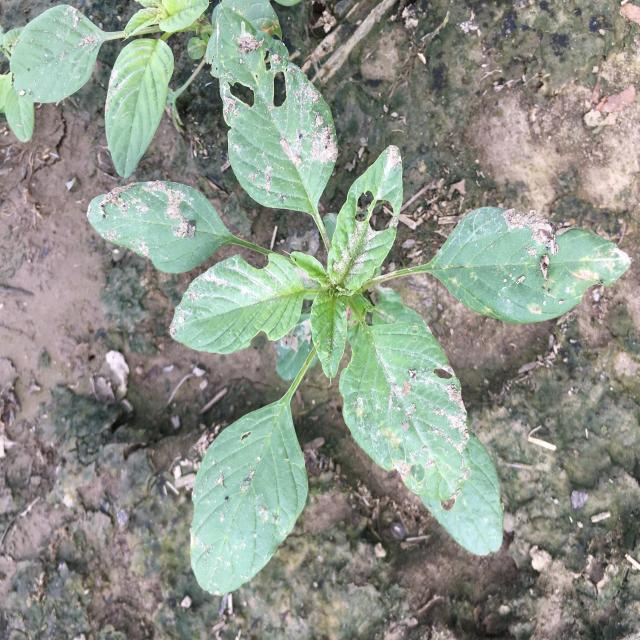PalmerAmaranth: (88, 7, 632, 596), (0, 0, 282, 178)
